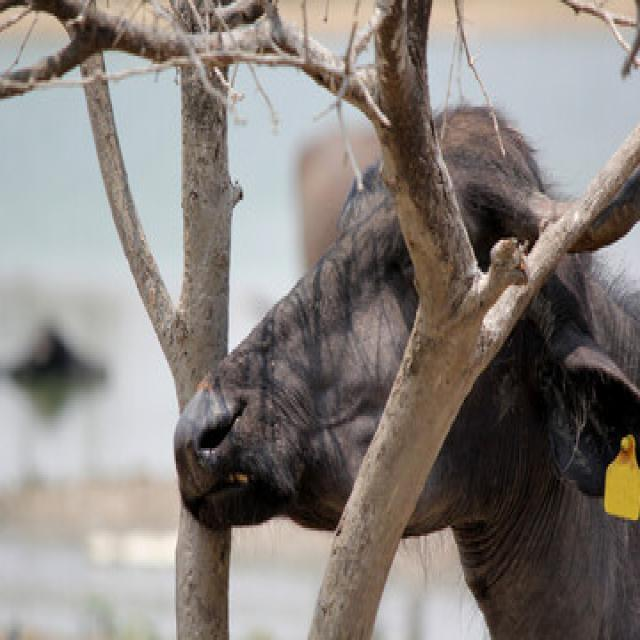Buffalo: (171, 99, 638, 637)
